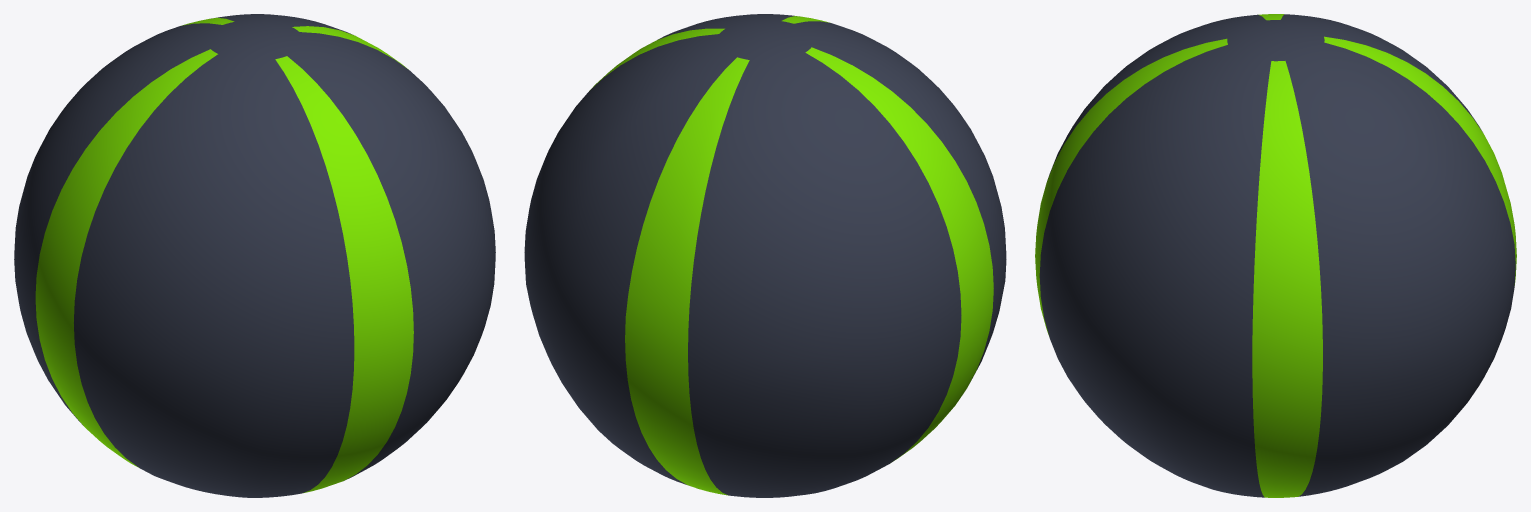
Rendered from ball3.fbx.
3 views of the same model, side by side, from view 1: azimuth 30°, elevation 25°; view 2: azimuth 150°, elevation 25°; view 3: azimuth 270°, elevation 25° (orthographic).
Parts seen in each view (by area): view 1: ball3; view 2: ball3; view 3: ball3.
Part boxes in pixels (x1,y1,x2,y2): ball3: [14, 14, 495, 497]; ball3: [524, 14, 1006, 497]; ball3: [1035, 14, 1516, 497].
Bounding box in the file's own units: 0.6477 × 0.6545 × 0.6477.
